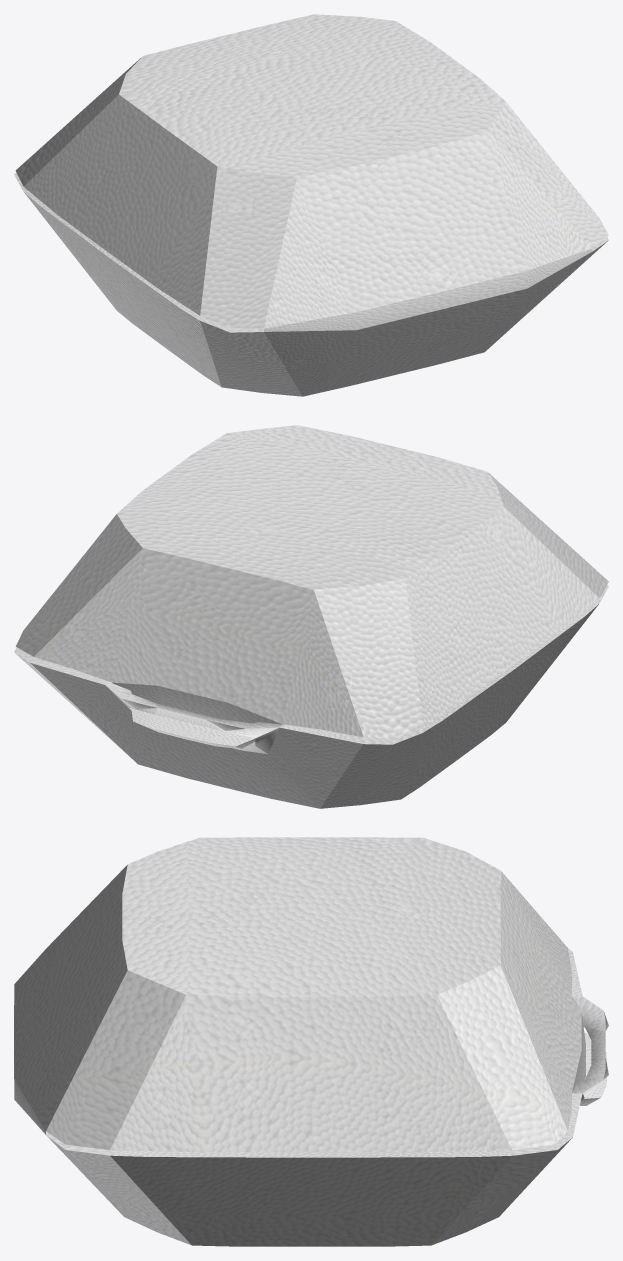
Rendered from plastic box.fbx.
3 renders of one model, top to bottom at view 1: azimuth 30°, elevation 25°; view 2: azimuth 150°, elevation 25°; view 3: azimuth 270°, elevation 25°, orthographic. The views are drawn at different scales.
Visible parts, largest first — view 1: plastic_box; view 2: plastic_box; view 3: plastic_box.
Boxes of the visible parts, x1,y1,x2,y2 form: plastic_box: [14, 14, 608, 396]; plastic_box: [14, 425, 608, 808]; plastic_box: [14, 837, 608, 1246].
Bounding box in the file's own units: 4.55 × 2.51 × 5.06.
1 material, 1 textured.
